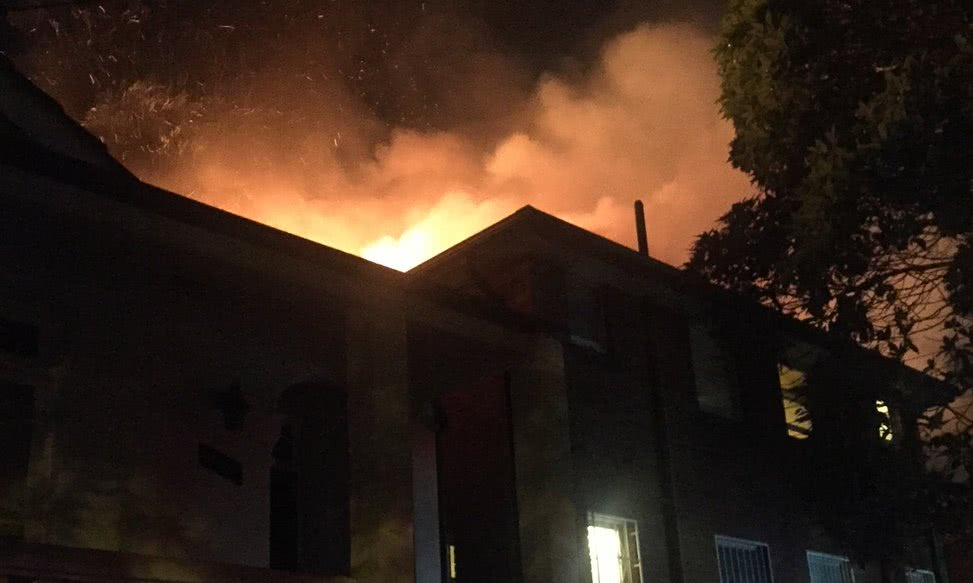Fire: (233, 165, 353, 225), (370, 178, 474, 236)
